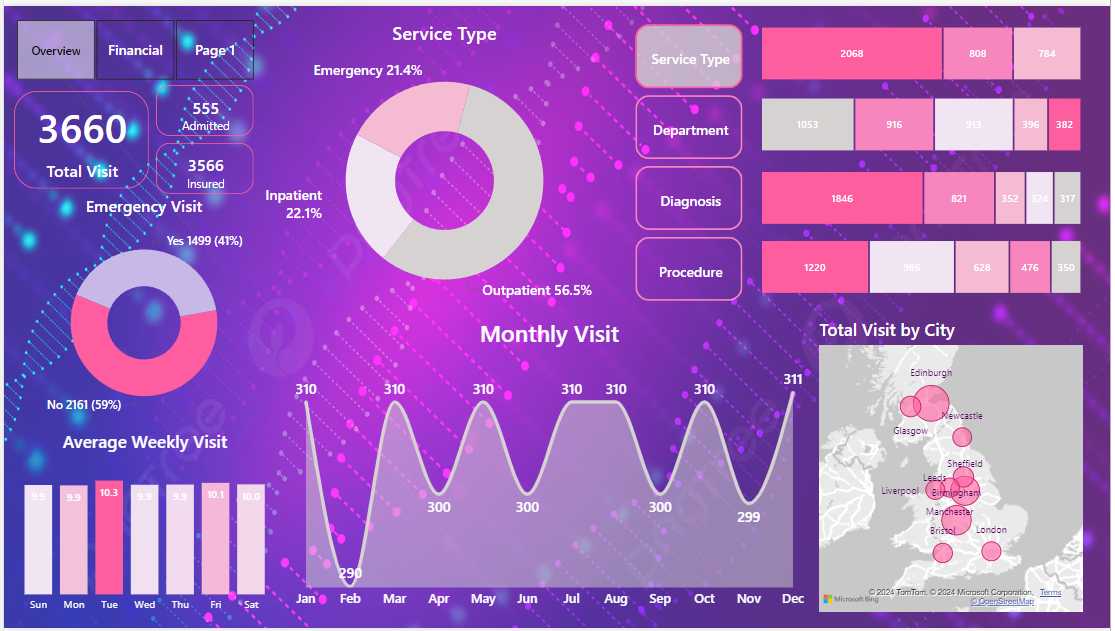

What the dashboard file says about the page in this screenshot:
{"tool":"powerbi","page":{"name":"Overview","canvas":[1280,720],"ordinal":0},"visuals":[{"type":"cardVisual","fields":{"Data":["_All Measures.Total Visit"]},"box":[12,62.7,155.7,149.3],"z":0},{"type":"donutChart","fields":{"Category":["diagnoses.Diagnosis"],"Y":["_All Measures.Total Visit"]},"box":[305.1,376.7,431.8,343.7],"z":1000},{"type":"advancedSlicerVisual","fields":{"Values":["Total Visit By.Visit By"]},"box":[736.9,376.7,134.4,332.7],"z":2000},{"type":"pieChart","title":"Emergency Visit","fields":{"Category":["visits_good.Emergency Visit"],"Y":["_All Measures.Total Visit"]},"box":[0,225.1,319.2,236.3],"z":3000},{"type":"cardVisual","fields":{"Data":["_All Measures.Total Visit Admitted","_All Measures.Total Visit With Insurance"]},"box":[176.9,62.7,113.3,147.4],"z":4000},{"type":"barChart","title":"Service Type","fields":{"Y":["_All Measures.Total Visit"],"Series":["visits_good.Service Type"]},"box":[876.8,360.2,403.2,101.3],"z":5000},{"type":"barChart","title":"Department","fields":{"Y":["_All Measures.Total Visit"],"Series":["departments.Department"]},"box":[876.9,449.1,403.1,99.7],"z":6000},{"type":"barChart","title":"Diagnosis","fields":{"Y":["_All Measures.Total Visit"],"Series":["diagnoses.Diagnosis"]},"box":[876.8,533.1,403.2,88.1],"z":7000},{"type":"barChart","title":"Procedure","fields":{"Y":["_All Measures.Total Visit"],"Series":["procedures.Procedure"]},"box":[876.9,621.5,403.1,73.9],"z":8000},{"type":"map","fields":{"Category":["cities.City"],"Size":["_All Measures.Total Visit"]},"box":[4.5,461.4,285.6,247.5],"z":9000},{"type":"lineChart","title":"Monthly Visit","fields":{"Y":["_All Measures.Total Visit"],"Category":["Calendar.MonthShort"]},"box":[332.6,17.9,614.8,346],"z":10000},{"type":"lineChart","title":"Average Weekly Visit","fields":{"Category":["Calendar.WeekName"],"Y":["_All Measures.Avg Visit Per DayWeek"]},"box":[946.3,17.9,333.7,342.7],"z":11000},{"type":"pageNavigator","box":[14.7,16.6,275.5,34.1],"z":12000}]}

Visuals, with their boxes in screenshot pixels (x1, y1, x2, y2), scaled from the page's 1280x720 canvas onto the 1115x631 screenshot:
cardVisual - _All Measures.Total Visit: left=10, top=55, right=146, bottom=186
donutChart - diagnoses.Diagnosis x _All Measures.Total Visit: left=266, top=330, right=642, bottom=630
advancedSlicerVisual - Total Visit By.Visit By: left=642, top=330, right=759, bottom=622
"Emergency Visit" pieChart: left=0, top=197, right=278, bottom=404
cardVisual - _All Measures.Total Visit Admitted x _All Measures.Total Visit With Insurance: left=154, top=55, right=253, bottom=184
"Service Type" barChart: left=764, top=316, right=1114, bottom=404
"Department" barChart: left=764, top=394, right=1114, bottom=481
"Diagnosis" barChart: left=764, top=467, right=1114, bottom=544
"Procedure" barChart: left=764, top=545, right=1114, bottom=609
map - cities.City x _All Measures.Total Visit: left=4, top=404, right=253, bottom=621
"Monthly Visit" lineChart: left=290, top=16, right=825, bottom=319
"Average Weekly Visit" lineChart: left=824, top=16, right=1114, bottom=316
pageNavigator: left=13, top=15, right=253, bottom=44
